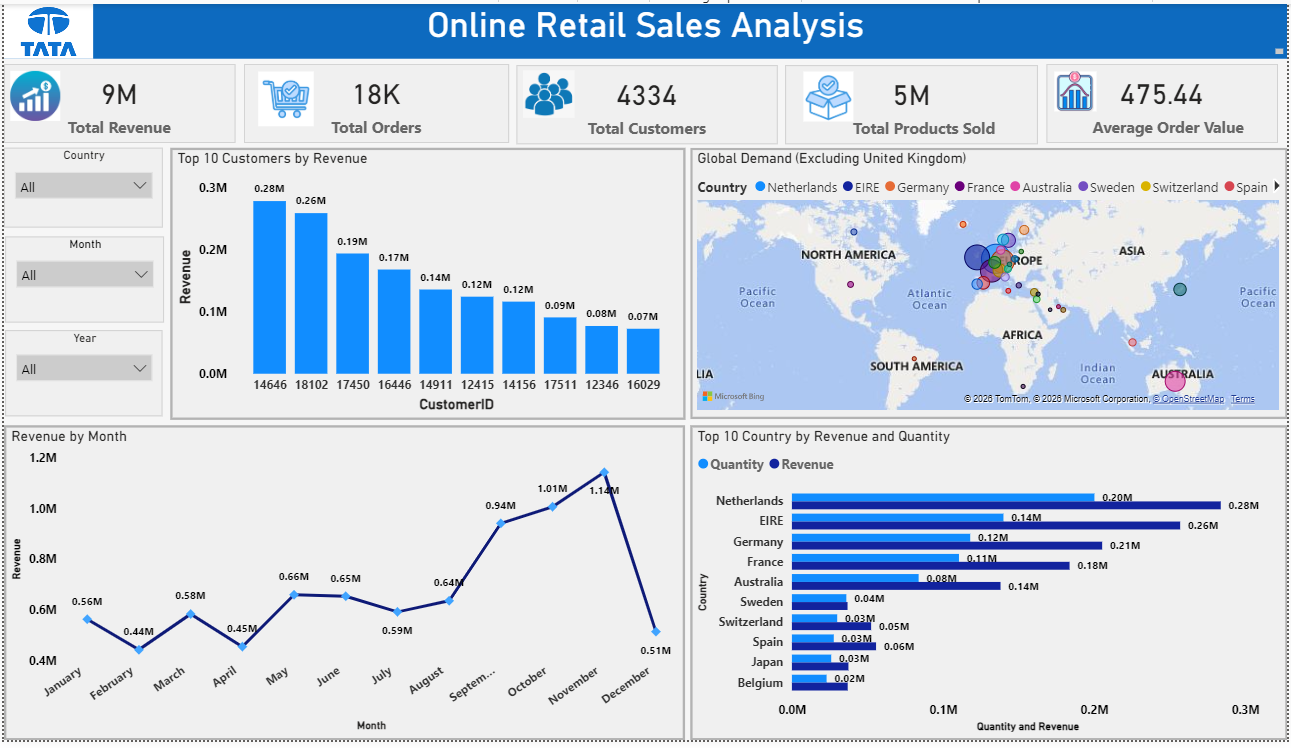

Layout of this report page (visuals, bound fields, positions):
{"tool":"powerbi","page":{"name":"Dashboard","canvas":[1313,753],"ordinal":0},"visuals":[{"type":"card","fields":{"Values":["Data.Total Orders"]},"box":[245.5,61.4,271.1,80.6],"z":0},{"type":"card","fields":{"Values":["Data.Total Customers"]},"box":[524.3,62.7,267.3,80.6],"z":1000},{"type":"card","fields":{"Values":["Data.Total Products Sold"]},"box":[799.3,62.7,258.3,80.6],"z":2000},{"type":"card","fields":{"Values":["Data.Total Revenue1"]},"box":[0,61.4,236.6,80.6],"z":3000},{"type":"card","fields":{"Values":["Data.Average Order Value"]},"box":[1066.6,61.4,236.6,80.6],"z":4000},{"type":"textbox","title":"Online Retail Sales Analysis","box":[0,0,1313.4,56.3],"z":5000},{"type":"lineChart","fields":{"Category":["Data.InvoiceDate.Variation.Date Hierarchy.Month"],"Y":["Sum(Data.Revenue)"]},"box":[0,431,697,322.3],"z":6000},{"type":"clusteredColumnChart","title":"Top 10 Customers by Revenue ","fields":{"Y":["Sum(Data.Revenue)"],"Category":["Data.CustomerID"]},"box":[170.1,147.1,526.9,278.8],"z":7000},{"type":"clusteredBarChart","title":"Top 10 Country by Revenue and  Quantity ","fields":{"Category":["Data.Country"],"Y":["Sum(Data.Quantity)","Sum(Data.Revenue)"]},"box":[702.1,431,611.3,322.3],"z":8000},{"type":"map","title":"Global Demand (Excluding United Kingdom)","fields":{"Category":["Data.Country"],"Series":["Data.Country"],"Size":["Sum(Data.Quantity)"]},"box":[702.1,147.1,611.3,277.5],"z":9000},{"type":"image","box":[6.4,65.2,51.2,57.5],"z":10000},{"type":"image","box":[808.3,69.1,70.3,51.2],"z":11000},{"type":"image","box":[254.5,69.1,67.8,56.3],"z":12000},{"type":"image","box":[1066.6,69.1,58.8,40.9],"z":13000},{"type":"image","box":[520.5,67.8,74.2,48.6],"z":14000},{"type":"slicer","title":"Year","fields":{"Values":["Data.InvoiceDate.Variation.Date Hierarchy.Year"]},"box":[1.3,333.8,161.1,88.2],"z":15000},{"type":"image","box":[0,0,90.8,56.3],"z":16000},{"type":"slicer","title":"Country","fields":{"Values":["Data.Country"]},"box":[0,147.1,162.4,81.8],"z":17000},{"type":"slicer","title":"Month","fields":{"Values":["Data.InvoiceDate.Variation.Date Hierarchy.Month"]},"box":[1.3,237.9,162.4,88.2],"z":18000}]}

Visuals, with their boxes in screenshot pixels (x1, y1, x2, y2), scaled from the page's 1313x753 canvas onto the 1291x748 screenshot:
card - Data.Total Orders: x1=241, y1=61, x2=508, y2=141
card - Data.Total Customers: x1=516, y1=62, x2=778, y2=142
card - Data.Total Products Sold: x1=786, y1=62, x2=1040, y2=142
card - Data.Total Revenue1: x1=0, y1=61, x2=233, y2=141
card - Data.Average Order Value: x1=1049, y1=61, x2=1281, y2=141
"Online Retail Sales Analysis" textbox: x1=0, y1=0, x2=1290, y2=56
lineChart - Data.InvoiceDate.Variation.Date Hierarchy.Month x Sum(Data.Revenue): x1=0, y1=428, x2=685, y2=747
"Top 10 Customers by Revenue " clusteredColumnChart: x1=167, y1=146, x2=685, y2=423
"Top 10 Country by Revenue and  Quantity " clusteredBarChart: x1=690, y1=428, x2=1290, y2=747
"Global Demand (Excluding United Kingdom)" map: x1=690, y1=146, x2=1290, y2=422
image: x1=6, y1=65, x2=57, y2=122
image: x1=795, y1=69, x2=864, y2=120
image: x1=250, y1=69, x2=317, y2=125
image: x1=1049, y1=69, x2=1107, y2=109
image: x1=512, y1=67, x2=585, y2=116
"Year" slicer: x1=1, y1=332, x2=160, y2=419
image: x1=0, y1=0, x2=89, y2=56
"Country" slicer: x1=0, y1=146, x2=160, y2=227
"Month" slicer: x1=1, y1=236, x2=161, y2=324
